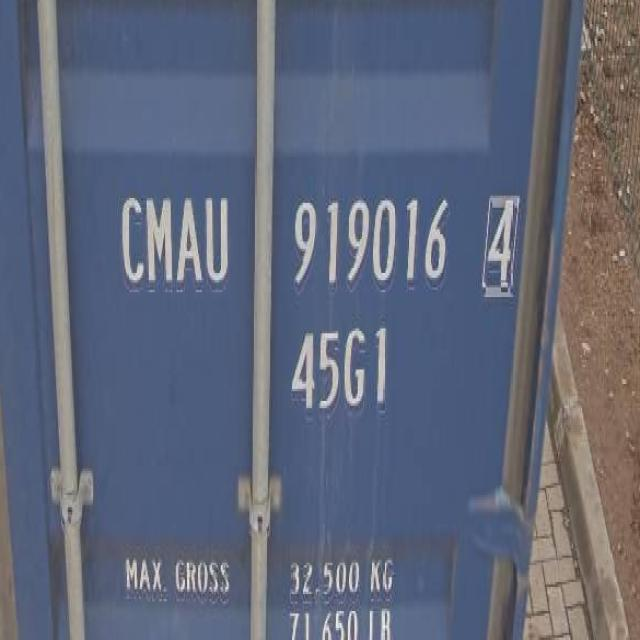dv: (476, 183, 519, 301)
owner: (117, 180, 233, 300)
serial: (288, 183, 450, 303)
size: (279, 320, 392, 425)
